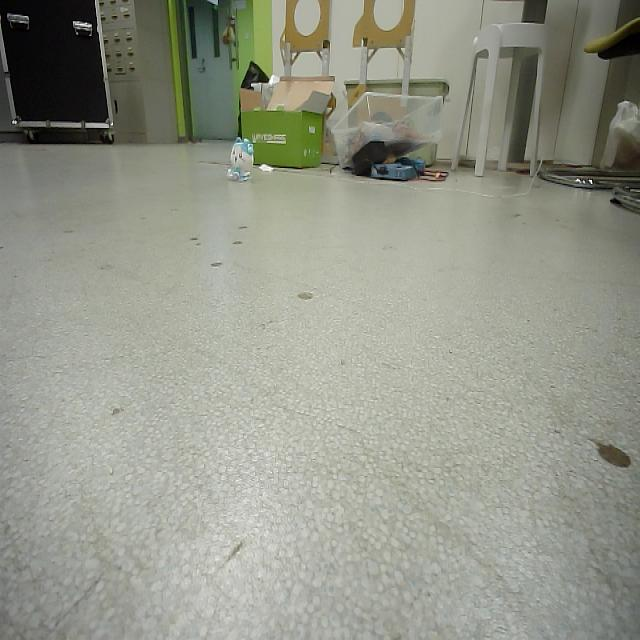xiaoba: (226, 128, 257, 188)
